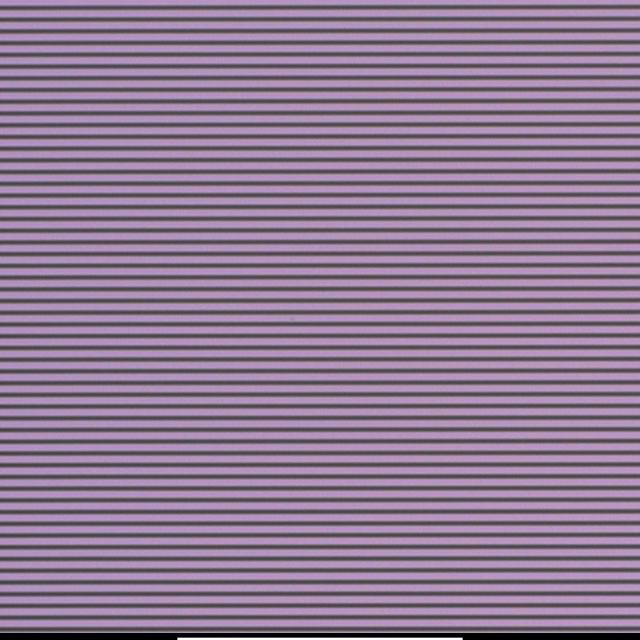nonvisual: (287, 317, 296, 325)
